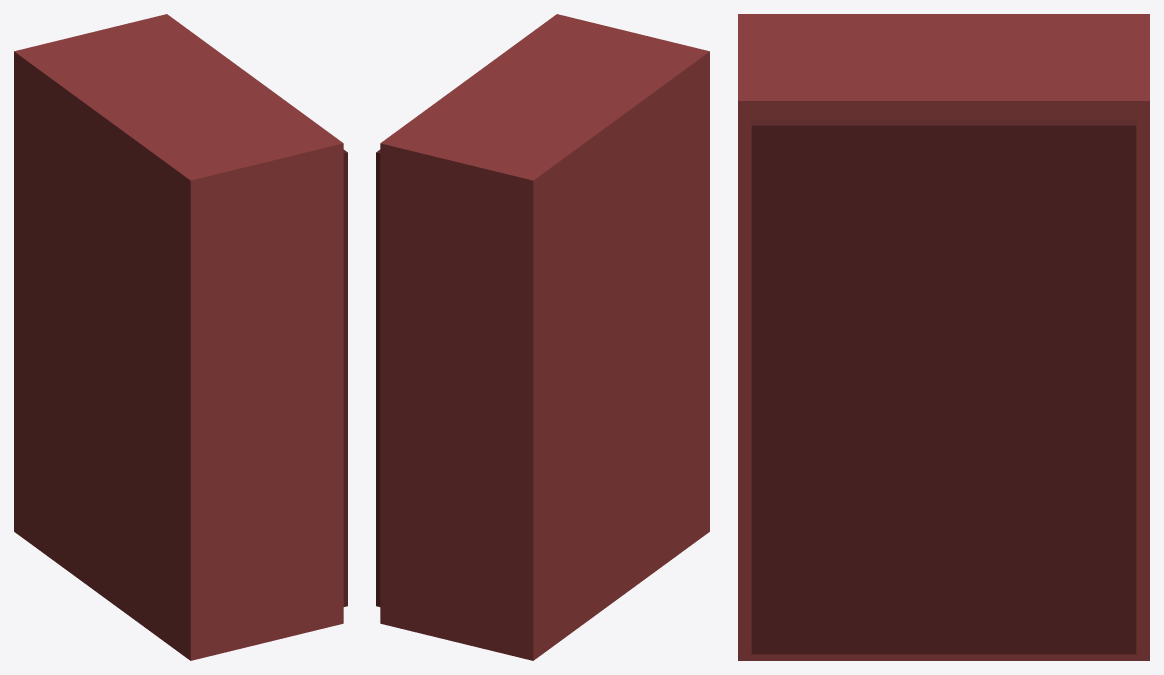
The model's file is Armory.fbx.
The picture shows the model from 3 angles, left to right: view 1: azimuth 30°, elevation 25°; view 2: azimuth 150°, elevation 25°; view 3: azimuth 270°, elevation 25°; orthographic projection. The views are drawn at different scales.
Parts seen in each view (by area): view 1: Armory; view 2: Armory; view 3: Armory.
Part boxes in pixels (x1,y1,x2,y2): Armory: (14,14,347,660); Armory: (376,14,709,660); Armory: (738,14,1149,660).
Size of the model in its own units: 32 by 90 by 60.
